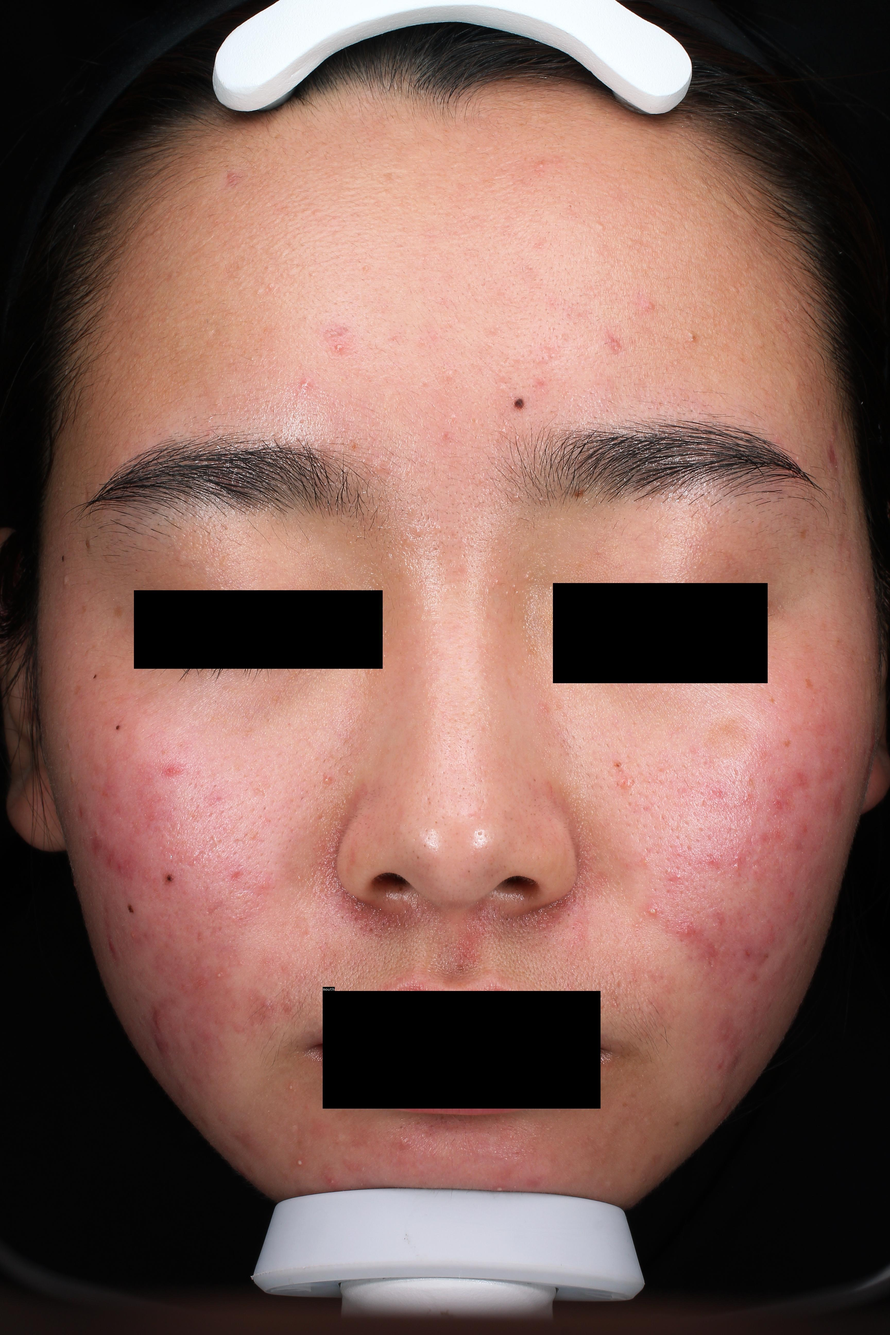atrophic_scar: (724, 1053, 739, 1074), (225, 171, 241, 190), (187, 850, 206, 866), (677, 923, 693, 939), (830, 446, 838, 472), (752, 853, 765, 867), (252, 787, 267, 799), (211, 323, 220, 338), (209, 837, 218, 852), (231, 871, 243, 882), (417, 337, 429, 348), (206, 907, 218, 916), (195, 931, 203, 944), (616, 980, 623, 989), (708, 959, 715, 967)
closed_comedo: (594, 220, 606, 234), (442, 369, 456, 381), (497, 381, 509, 393), (403, 537, 414, 548), (686, 331, 698, 341), (309, 268, 319, 280), (265, 283, 275, 294), (361, 264, 371, 274), (212, 398, 221, 408), (525, 571, 532, 583), (413, 527, 421, 536), (511, 494, 521, 501), (386, 552, 393, 561), (420, 1133, 427, 1140), (255, 288, 262, 295), (731, 288, 740, 293), (345, 769, 352, 775), (613, 1003, 619, 1009), (511, 583, 517, 589), (474, 418, 480, 424), (495, 578, 500, 584), (249, 356, 255, 361), (450, 414, 456, 419)
hypertrophic_scar: (289, 1123, 299, 1138), (336, 1132, 348, 1143)
melasma: (705, 718, 753, 759), (134, 687, 159, 711), (96, 659, 116, 682), (124, 678, 148, 692), (203, 714, 226, 724), (526, 644, 540, 657), (112, 607, 125, 620), (801, 643, 814, 655), (803, 678, 814, 692), (242, 728, 256, 739), (73, 684, 83, 695), (800, 529, 809, 540), (783, 740, 793, 749), (80, 603, 87, 615), (802, 629, 810, 638), (768, 697, 774, 705)
nevus: (161, 871, 176, 886), (512, 397, 526, 412), (573, 487, 584, 498), (127, 903, 133, 914), (613, 762, 622, 769), (84, 540, 90, 550), (115, 725, 121, 731), (61, 555, 65, 563), (92, 675, 97, 679)
open_comedo: (472, 828, 485, 838), (539, 354, 548, 364), (530, 775, 538, 784), (532, 207, 540, 215), (526, 175, 534, 183), (575, 200, 584, 206), (567, 204, 574, 210), (659, 177, 665, 182), (433, 819, 438, 825), (466, 869, 472, 874), (566, 911, 570, 918), (571, 926, 576, 930), (416, 856, 420, 860)
other: (61, 573, 70, 586)
papule: (296, 379, 315, 397), (399, 1136, 413, 1153), (670, 870, 686, 884), (640, 299, 655, 313), (262, 997, 275, 1013), (620, 778, 635, 791), (128, 929, 140, 944), (165, 765, 181, 776), (281, 996, 290, 1013), (713, 1095, 724, 1108), (607, 338, 618, 350), (156, 1037, 165, 1051), (107, 941, 117, 953), (731, 861, 741, 872), (326, 1178, 338, 1187), (772, 799, 782, 809), (154, 1011, 161, 1025), (640, 857, 649, 867), (259, 880, 269, 889), (706, 856, 715, 864), (714, 790, 723, 798), (870, 733, 875, 747)
pustule: (332, 341, 346, 356), (322, 775, 333, 786), (295, 1157, 305, 1168), (647, 906, 657, 917), (215, 970, 225, 979), (537, 161, 547, 170), (494, 1184, 504, 1192), (287, 1084, 294, 1091), (795, 454, 800, 462)
